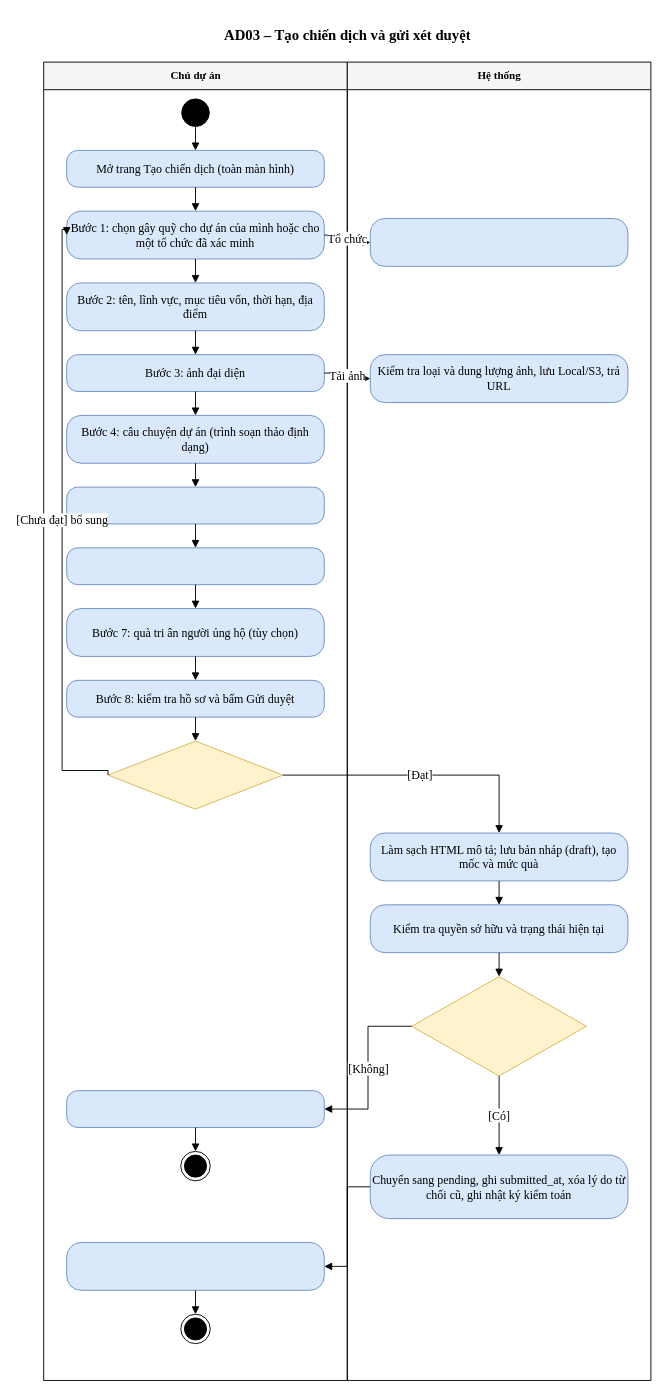
The diagram is 667 pixels wide and 1397 high, and some of its shapes have lost their labels. Here are the shapes that lost their labels. From the top down, the centre of each, then its label:
(x=498, y=242): Chỉ cho chọn tổ chức đang ở trạng thái verified
(x=195, y=505): Bước 5: minh bạch ngân sách và rủi ro
(x=195, y=566): Bước 6: kế hoạch theo mốc (≥ 2 mốc)
(x=195, y=774): Hồ sơ đạt yêu cầu?
(x=498, y=1026): Trạng thái là draft / rejected / needs_info?
(x=195, y=1108): Báo lỗi không thể gửi duyệt
(x=195, y=1266): Nhận xác nhận “Đã gửi xét duyệt”, chờ quản trị viên
